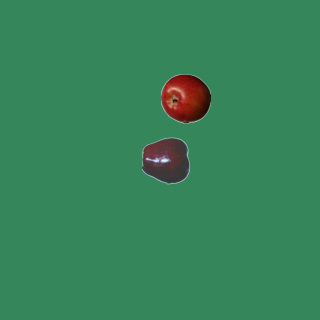Apple Braeburn: (160, 73, 210, 123)
Apple Red Delicious: (141, 135, 191, 185)
